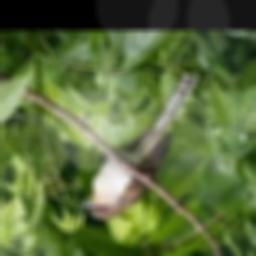Cuckoo: (82, 71, 200, 219)
